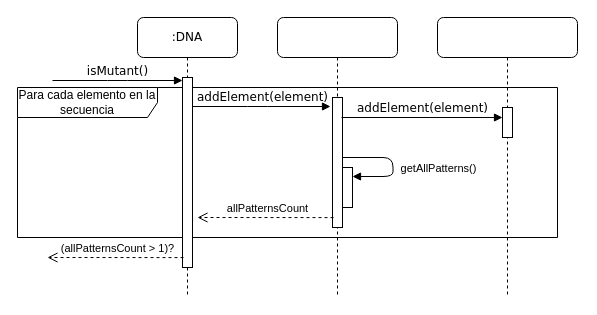
Some shapes in this 597 by 315 pixel diagram are drawn without their labels. Each missing label, with the box of its shape:
:ColumnPatternDetector: (436, 16, 578, 298)
:MatrixPatternDetector: (276, 16, 398, 298)
